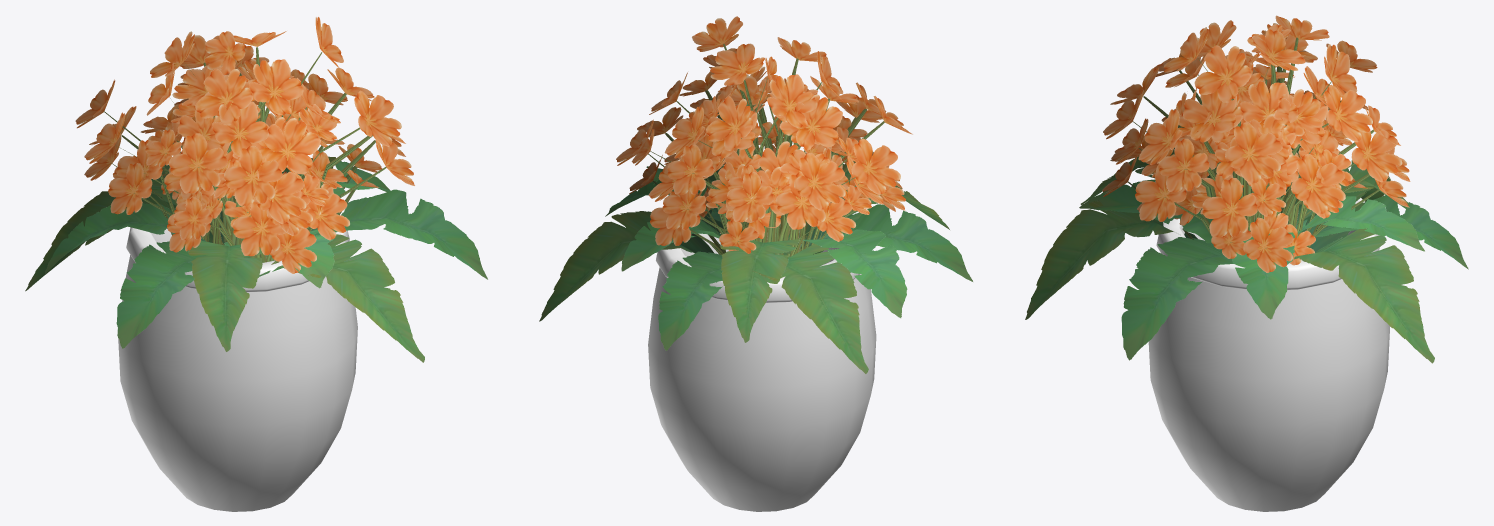
File: SM_Potted_Orange_Flower_A.fbx
3 views of the same model, side by side, from view 1: azimuth 30°, elevation 25°; view 2: azimuth 150°, elevation 25°; view 3: azimuth 270°, elevation 25° (orthographic). The views are drawn at different scales.
Visible parts, largest first — view 1: SM_Potted_Orange_Flower_A_LOD0; view 2: SM_Potted_Orange_Flower_A_LOD0; view 3: SM_Potted_Orange_Flower_A_LOD0.
Boxes of the visible parts, <box> form: SM_Potted_Orange_Flower_A_LOD0: <box>25,17,487,511</box>; SM_Potted_Orange_Flower_A_LOD0: <box>539,16,972,511</box>; SM_Potted_Orange_Flower_A_LOD0: <box>1025,15,1468,511</box>.
Bounding box in the file's own units: 113 × 121 × 137.
2 materials, 1 textured.
